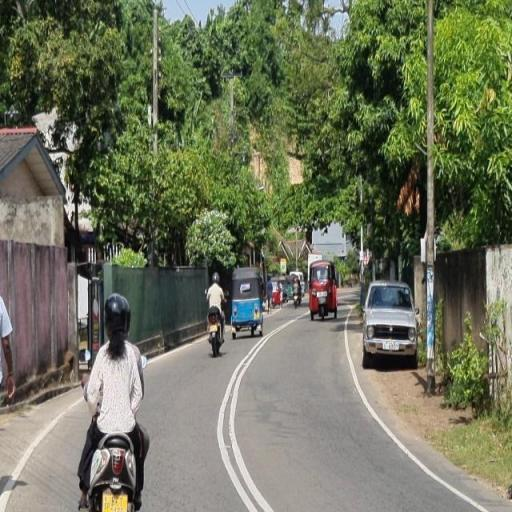double_white_line: (339, 316, 493, 510), (215, 312, 276, 512)
